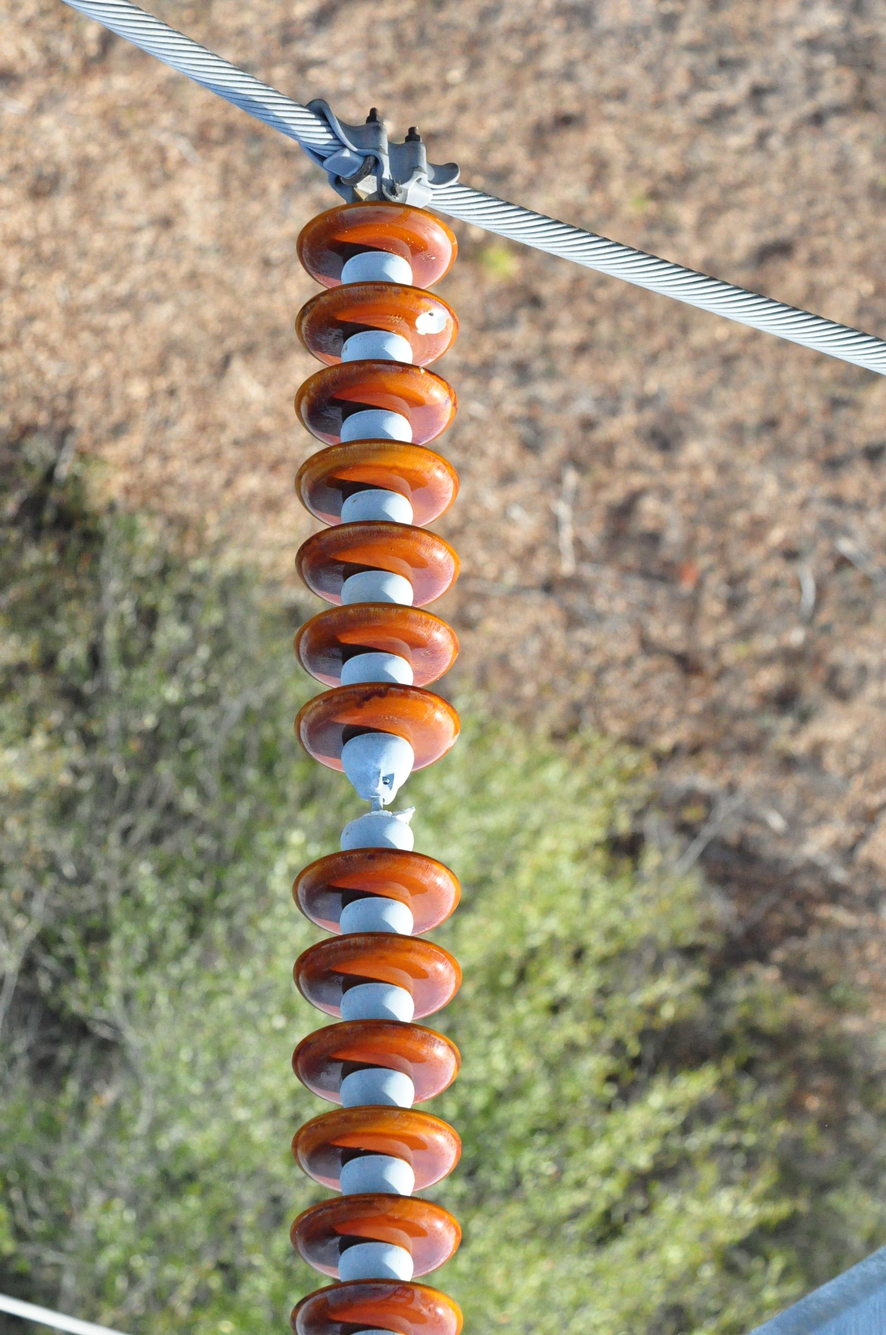damaged: (341, 762, 416, 832), (413, 301, 453, 338)
insulator: (291, 205, 469, 1335)
